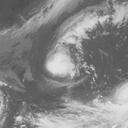cyclone: (43, 1, 126, 85)
